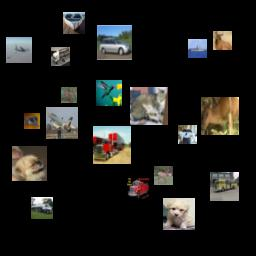airplane: (46, 107, 78, 139), (6, 37, 32, 63)
automobile: (97, 25, 132, 60)
bird: (96, 80, 122, 106)
cat: (130, 87, 168, 125), (178, 125, 197, 144), (24, 113, 40, 129)
deer: (201, 97, 239, 135), (213, 31, 232, 50), (154, 166, 173, 185)
dog: (12, 146, 47, 181), (163, 198, 195, 230)
frog: (61, 87, 77, 103)
ship: (63, 12, 85, 34), (188, 39, 207, 58)
truck: (93, 126, 131, 164), (210, 172, 239, 201), (31, 197, 53, 219), (127, 178, 149, 200), (51, 47, 70, 66)
